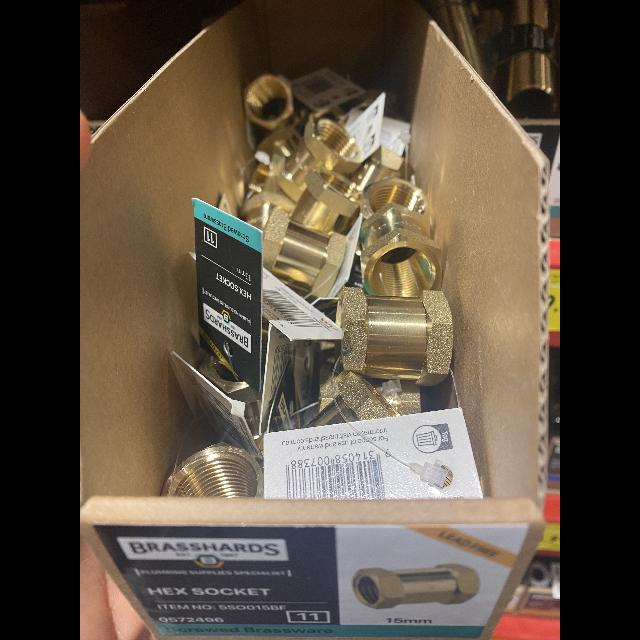Brass: (334, 288, 454, 388), (360, 201, 441, 298), (263, 208, 347, 296), (277, 115, 361, 203), (164, 443, 263, 498), (288, 167, 363, 235), (336, 371, 400, 423), (244, 73, 294, 131), (362, 178, 428, 218), (348, 147, 405, 187), (239, 191, 297, 230), (259, 129, 298, 168), (298, 402, 345, 430), (389, 379, 421, 417), (308, 266, 341, 302), (365, 246, 418, 263), (318, 364, 333, 411), (250, 163, 270, 187)
